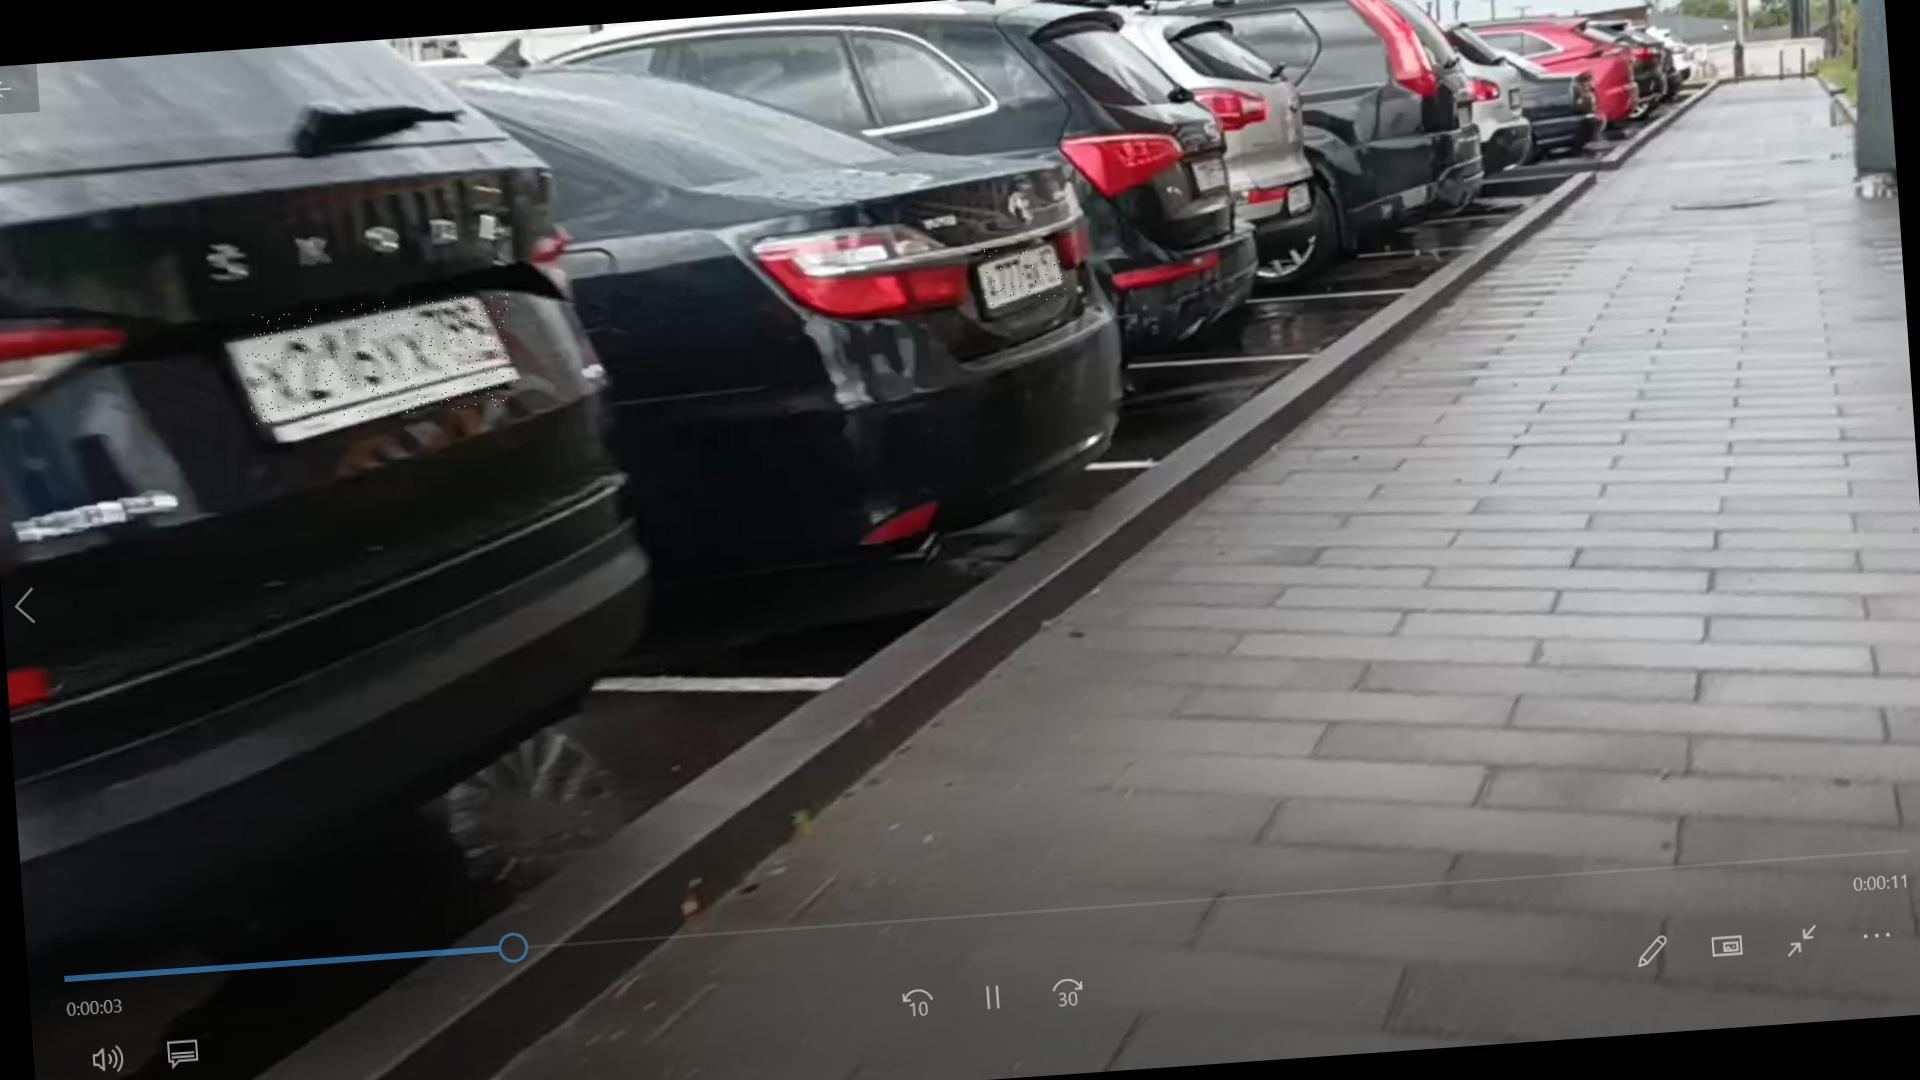plate: (245, 294, 519, 425), (982, 244, 1068, 308)
